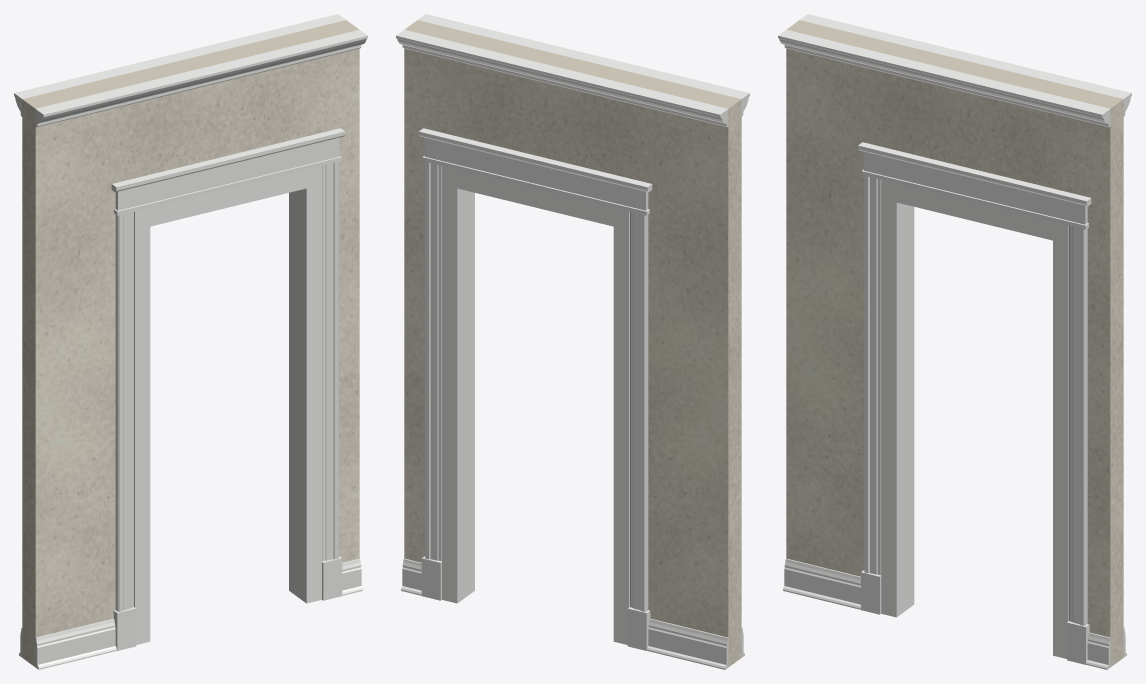
Rendered from interior_wall_end_doorway.glb.
3 views of the same model, side by side, from view 1: azimuth 30°, elevation 25°; view 2: azimuth 150°, elevation 25°; view 3: azimuth 330°, elevation 25° (orthographic).
Visible parts, largest first — view 1: interior_wall_end_doorway_plaster, molduras, interior_wall_end_doorway_frame; view 2: interior_wall_end_doorway_plaster, molduras, interior_wall_end_doorway_frame; view 3: interior_wall_end_doorway_plaster, molduras, interior_wall_end_doorway_frame.
Part boxes in pixels (<box>): interior_wall_end_doorway_plaster: <box>22,20,359,667</box>; molduras: <box>14,14,367,669</box>; interior_wall_end_doorway_frame: <box>134,166,321,644</box>; interior_wall_end_doorway_plaster: <box>404,20,741,667</box>; molduras: <box>396,14,749,669</box>; interior_wall_end_doorway_frame: <box>442,166,629,644</box>; interior_wall_end_doorway_plaster: <box>786,20,1123,667</box>; molduras: <box>778,14,1131,669</box>; interior_wall_end_doorway_frame: <box>881,180,1068,658</box>.
Size of the model in its own units: 1.7 by 2.8 by 0.27.
Materials: 3 (1 with a texture image).
